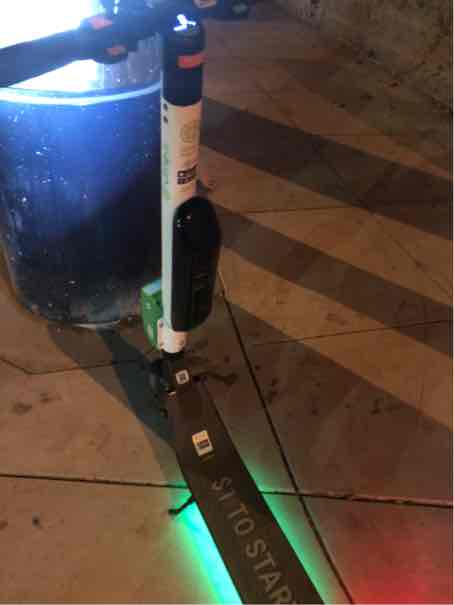scooter: (20, 11, 416, 605)
